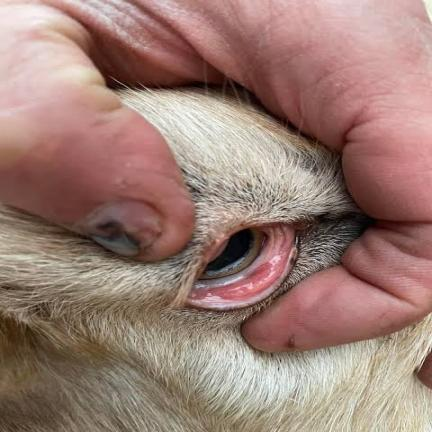goat-eye-anemia-22222222: (206, 232, 300, 310)
